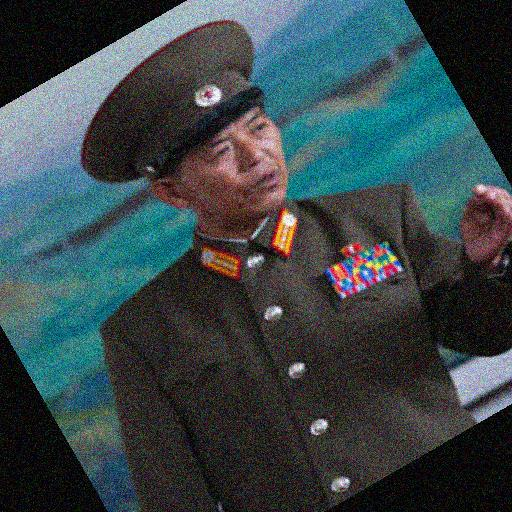north army: (49, 36, 512, 502)
